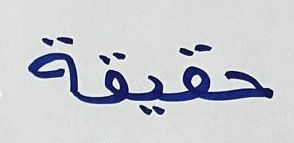hah: (220, 66, 276, 103)
qaf: (167, 43, 217, 106), (84, 50, 130, 106)
teh_marbota: (26, 29, 81, 101)
yeh: (132, 71, 166, 118)
